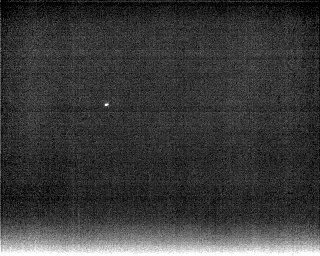BIRD: (102, 100, 111, 108)
